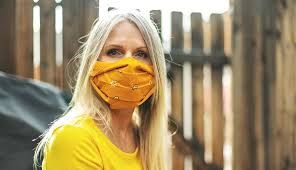FaceMask: (90, 58, 156, 108)
